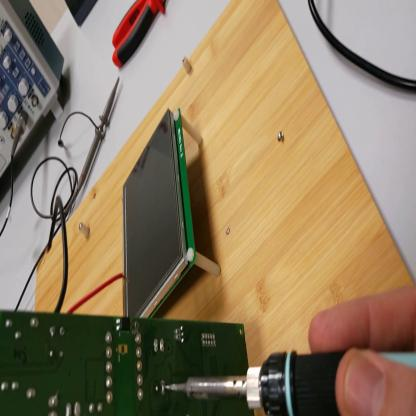hand: (309, 285, 416, 414)
low voltage board: (2, 192, 256, 416)
oscilloscope: (2, 1, 66, 177)
oscilloscope probe tip: (65, 70, 123, 220)
pliers: (112, 4, 167, 66)
welder probe tip: (166, 347, 416, 416)
working area: (36, 2, 416, 370)
